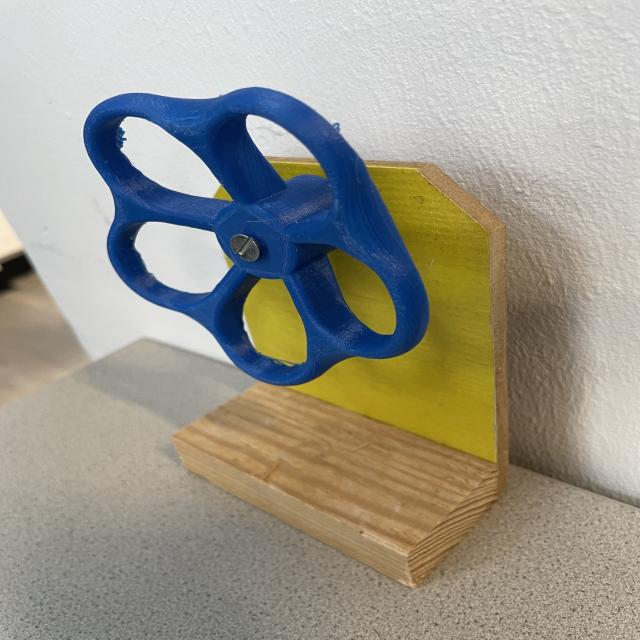Wheel Handle Valve Threaded: (82, 85, 432, 387)
